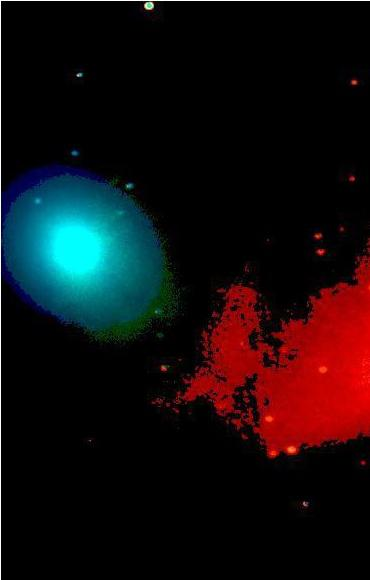star: (98, 226, 128, 256)
